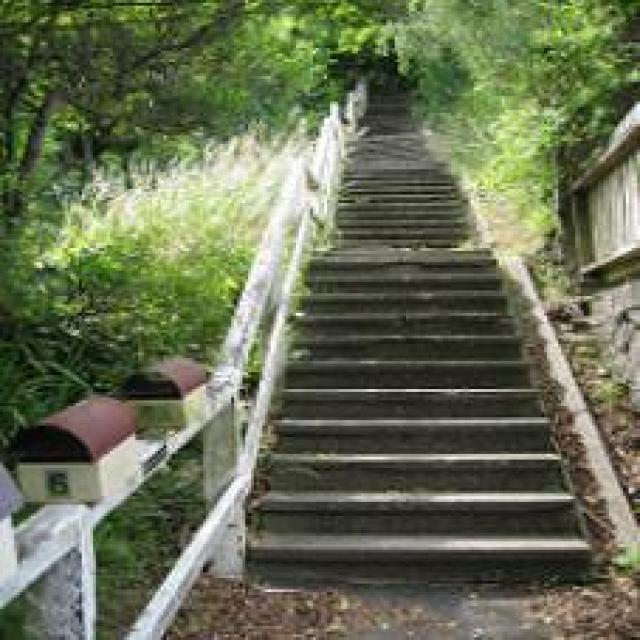upstair: (263, 235, 585, 568)
